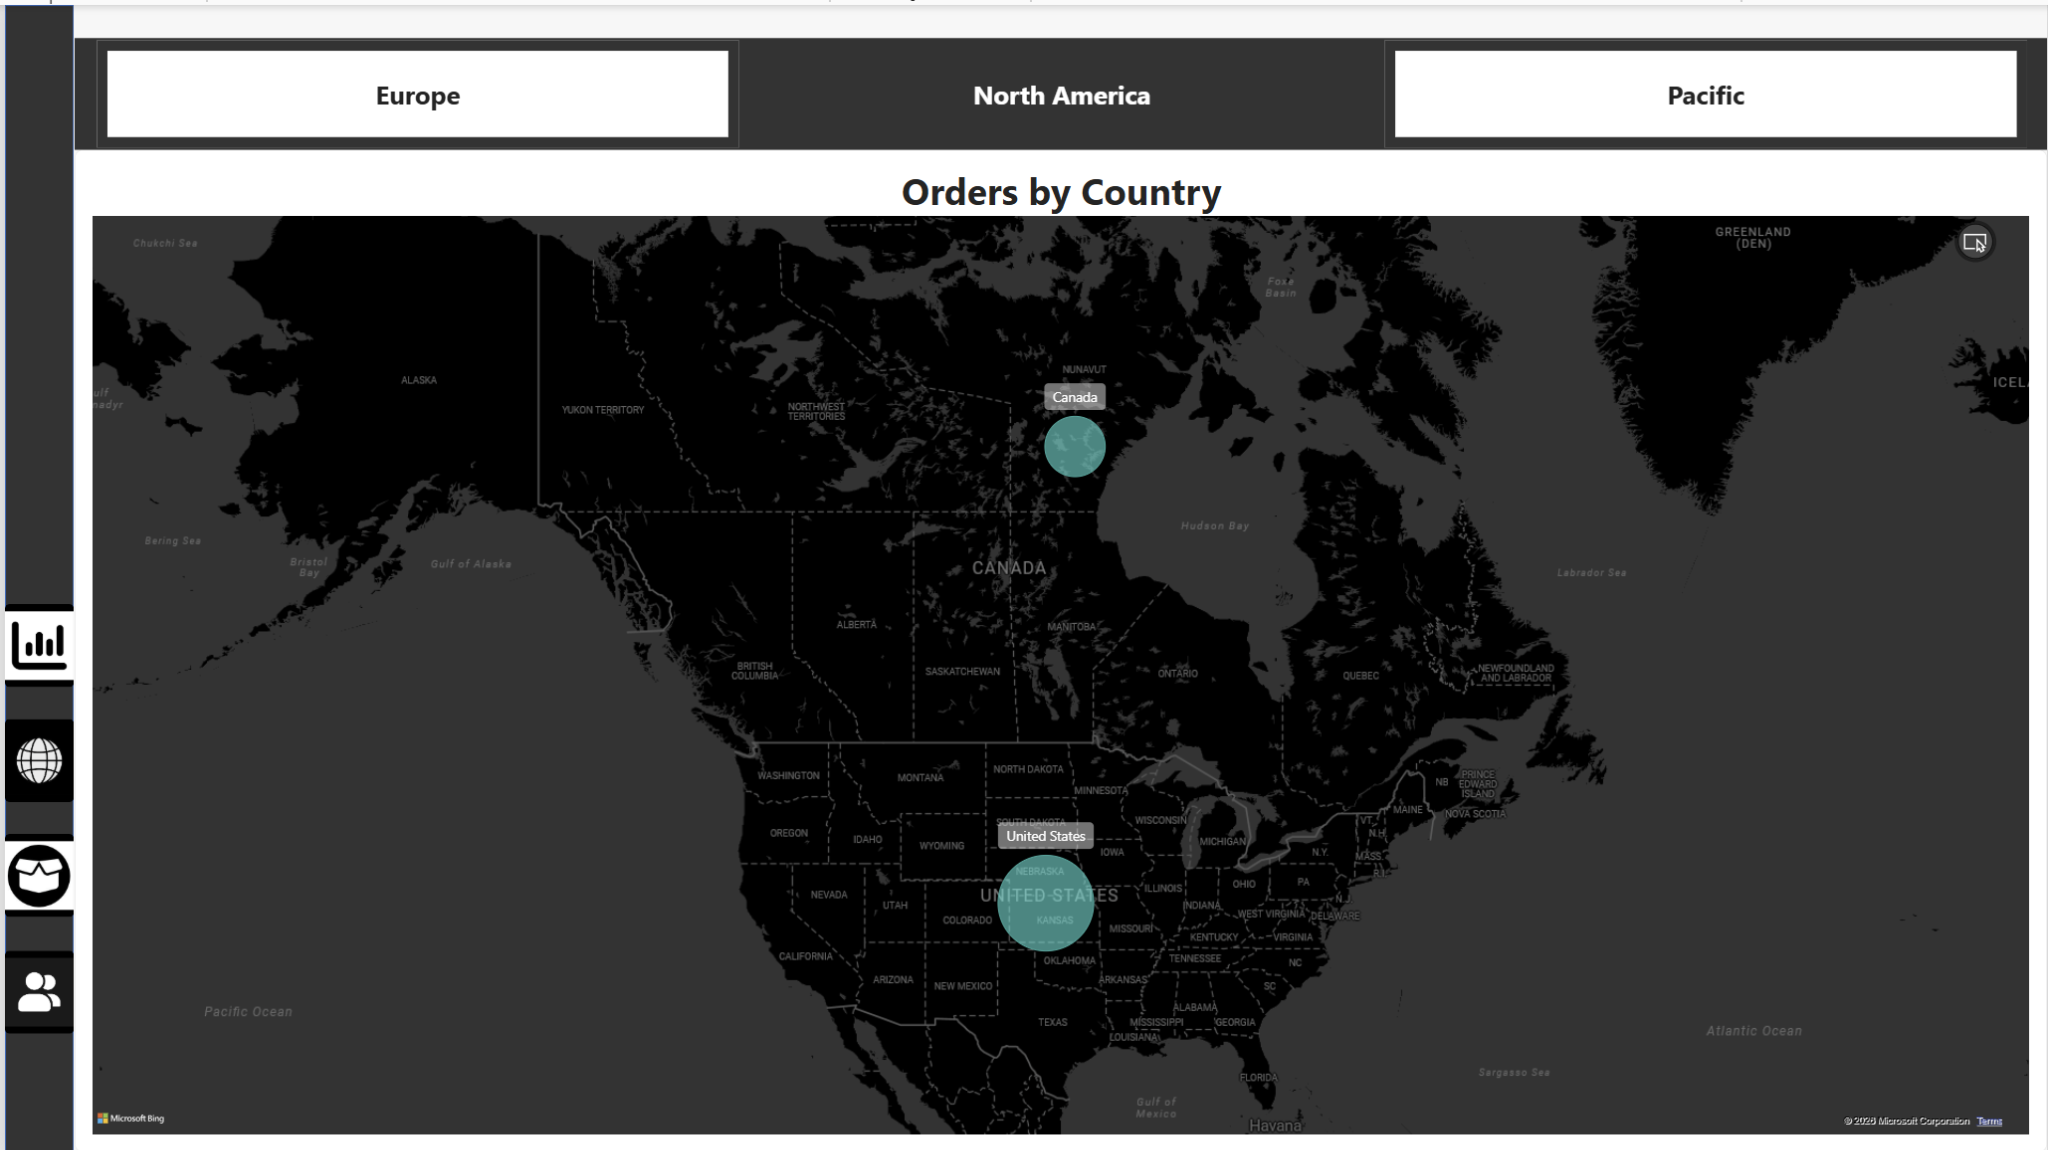

The page's visual inventory and layout, read from the dashboard file:
{"tool":"powerbi","page":{"name":"Map","canvas":[1920,1080],"ordinal":1},"visuals":[{"type":"map","title":"Orders by Country","fields":{"Category":["Territory Lookup.Country"],"Size":["Table Measure.Total Orders"]},"box":[64.8,136.4,1855.5,943.4],"z":0},{"type":"actionButton","box":[0,563.4,64.8,78.2],"z":0,"group":"g1"},{"type":"slicer","fields":{"Values":["Territory Lookup.Continent"]},"box":[64.8,31.3,1855.5,105.1],"z":1000},{"type":"actionButton","box":[0,670.7,64.8,78.2],"z":1000,"group":"g1"},{"type":"shape","title":"Left Nav Bar","box":[0,0,64.8,1079.8],"z":2000},{"type":"actionButton","box":[0,780.2,64.8,78.2],"z":2000,"group":"g1"},{"type":"actionButton","box":[0,889.8,64.8,78.2],"z":3000},{"type":"group","id":"g1","title":"Custom navigation","box":[0,563.4,64.8,295.1],"z":4000}]}

Visuals, with their boxes in screenshot pixels (x1, y1, x2, y2):
"Orders by Country" map: bbox=[68, 143, 2020, 1136]
actionButton: bbox=[0, 593, 68, 675]
slicer - Territory Lookup.Continent: bbox=[68, 33, 2020, 143]
actionButton: bbox=[0, 706, 68, 788]
"Left Nav Bar" shape: bbox=[0, 0, 68, 1136]
actionButton: bbox=[0, 821, 68, 903]
actionButton: bbox=[0, 936, 68, 1018]
"Custom navigation" group: bbox=[0, 593, 68, 903]
